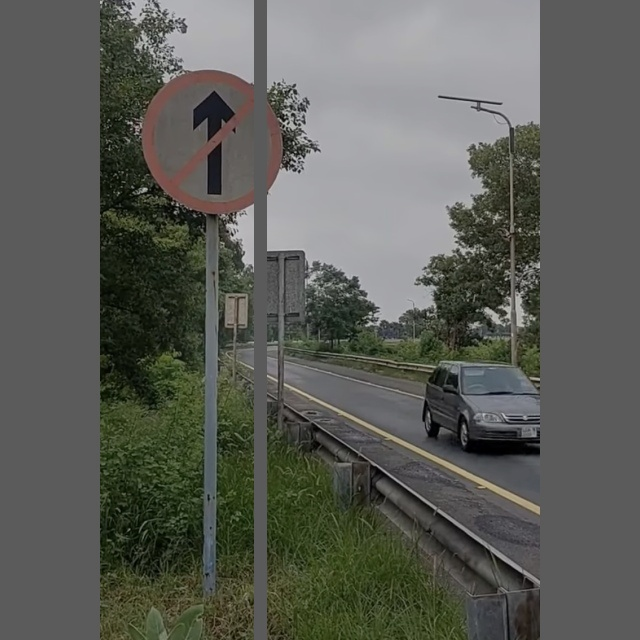No_Entry: (145, 73, 283, 213)
